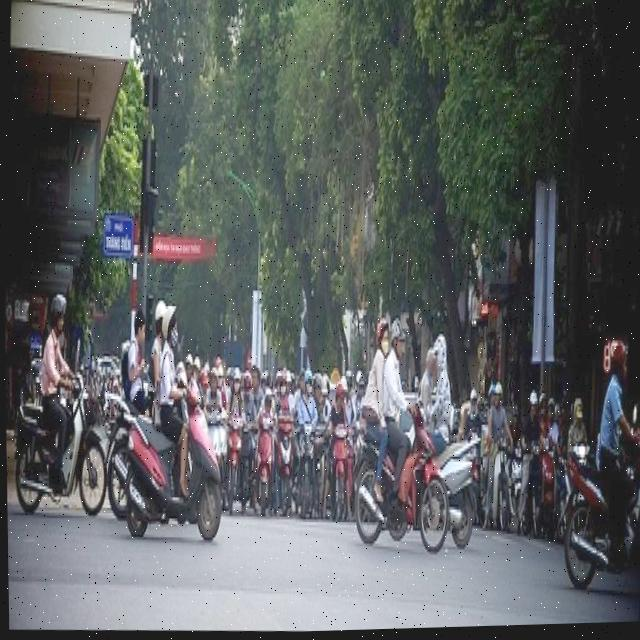motorcycle: (97, 382, 235, 550), (336, 398, 457, 559), (5, 368, 108, 521)
